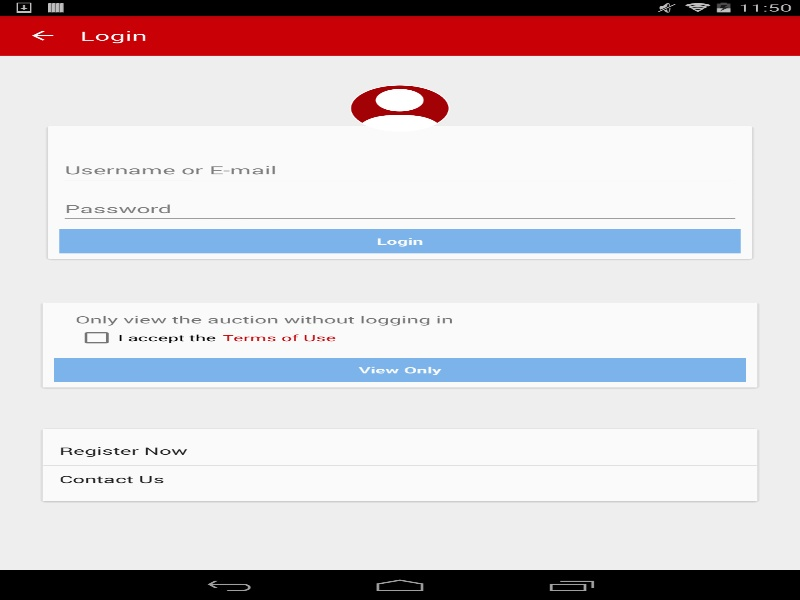Button: (0, 18, 74, 53)
Input: (59, 156, 740, 185), (59, 195, 740, 224)
